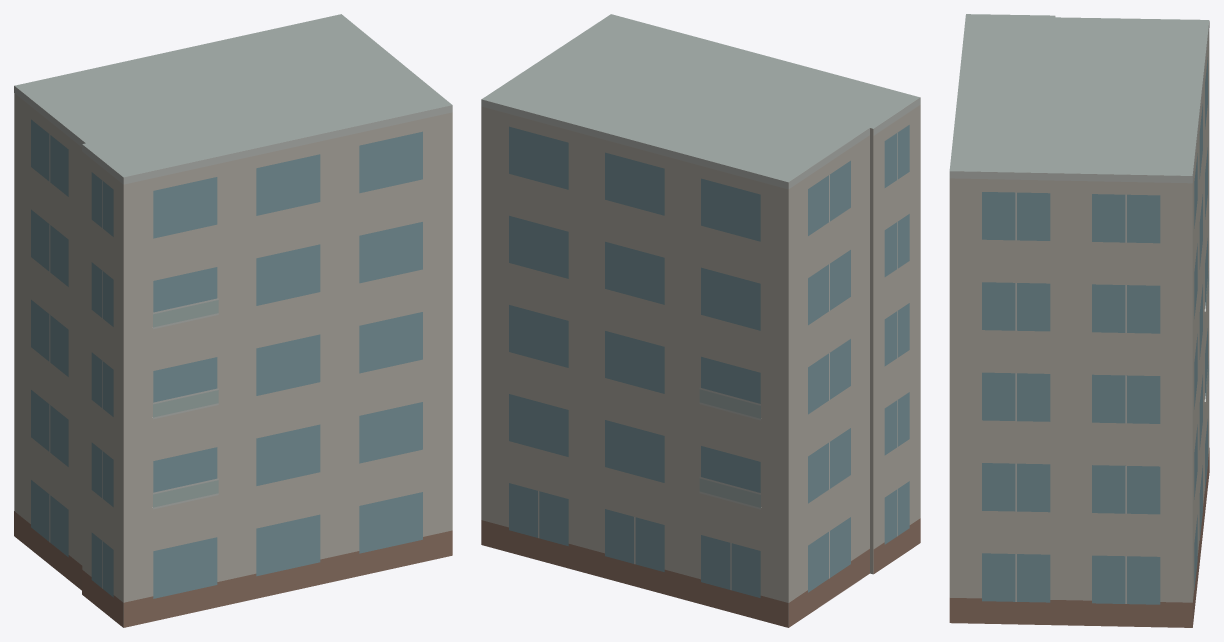
Rendered from survey-upis-32927563.glb.
3 views of the same model, side by side, from view 1: azimuth 30°, elevation 25°; view 2: azimuth 150°, elevation 25°; view 3: azimuth 270°, elevation 25° (orthographic).
Parts seen in each view (by area): view 1: survey-upis-32927563.tmp; view 2: survey-upis-32927563.tmp; view 3: survey-upis-32927563.tmp.
Boxes of the visible parts, <box> form: survey-upis-32927563.tmp: <box>14,14,452,627</box>; survey-upis-32927563.tmp: <box>481,14,920,627</box>; survey-upis-32927563.tmp: <box>949,14,1209,627</box>.
Size of the model in its own units: 11.74 by 15.25 by 7.96.
